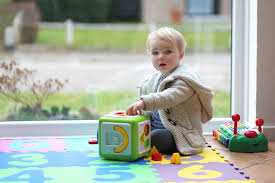child: (125, 27, 215, 157)
